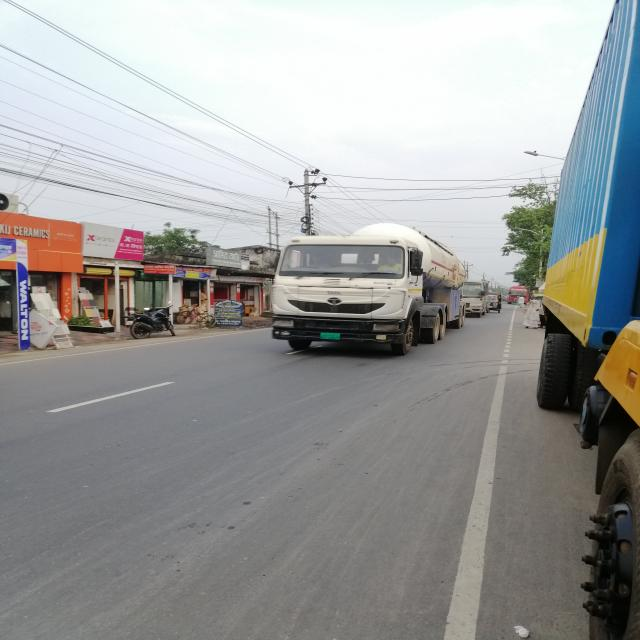Motorbike: (99, 305, 197, 351)
Truck: (236, 203, 483, 372)
